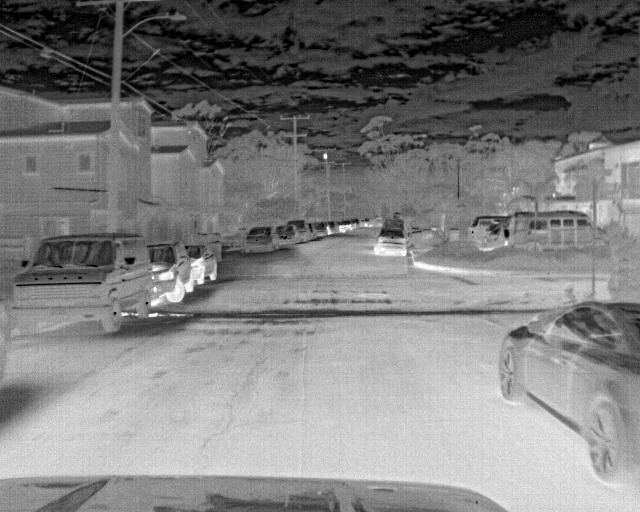car: (495, 301, 638, 492), (9, 232, 154, 338), (511, 210, 606, 256), (145, 241, 193, 303), (370, 229, 410, 259), (465, 213, 504, 242), (244, 226, 279, 254), (187, 242, 207, 284), (479, 222, 507, 252), (270, 225, 294, 247), (285, 222, 308, 243), (314, 219, 330, 236), (335, 220, 354, 234)
